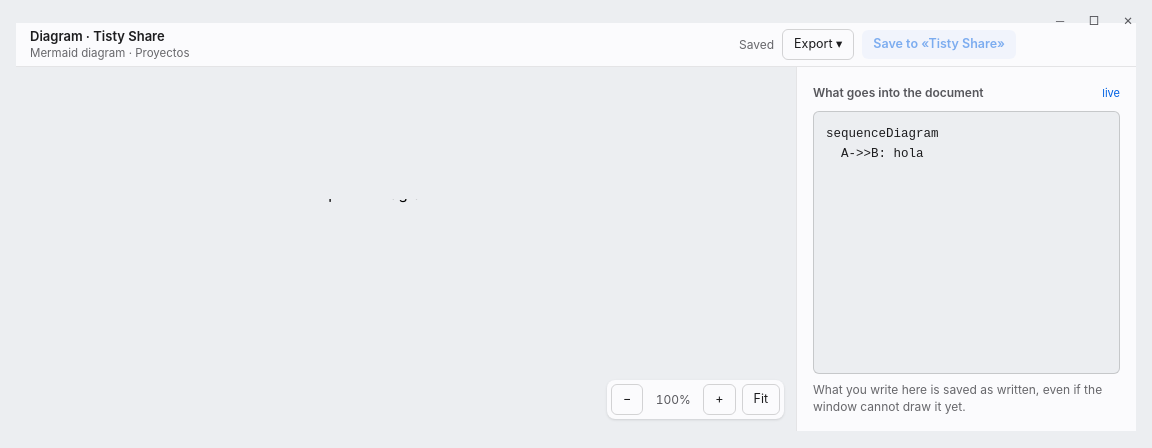
the diagram window › draws what the text says, live, and keeps the last drawing while it cannot
The image size is (1152, 448).
Check: the icon "sequenceDiagram" is shown, box [306,199,506,299]
Replace the text in the text box labelled "What goes into the document" with "sequenceDiagram broken": (966, 242) [813,111,1120,374]
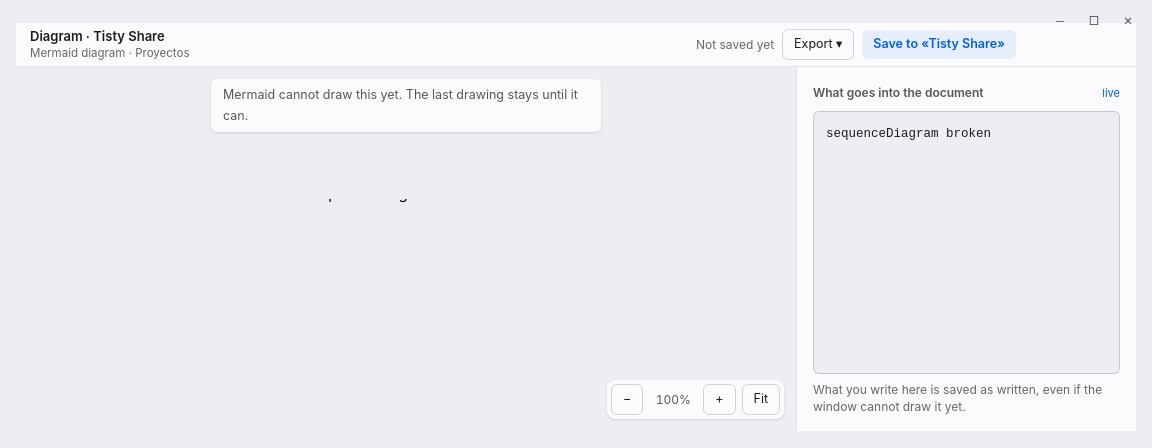
Check: the icon "sequenceDiagram" is shown, box [306,199,506,299]
Check: the text "Mermaid cannot draw this yet. The last drawing stays until it can." is shown, box [211,79,601,132]
